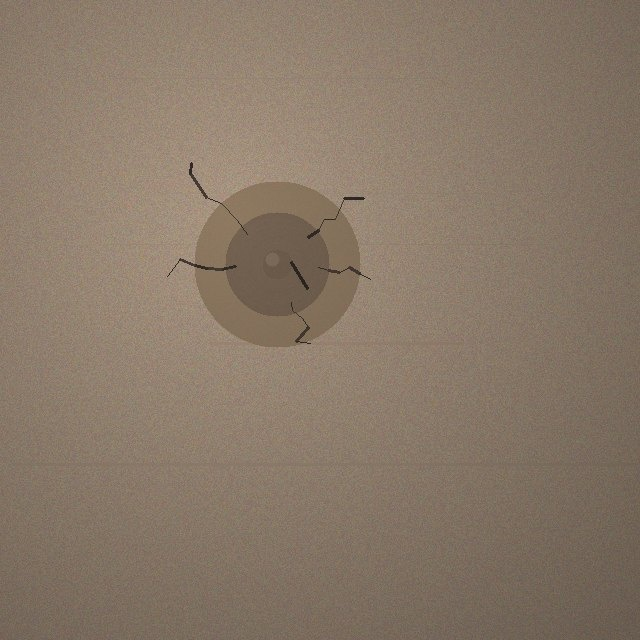crack: (194, 181, 360, 347)
